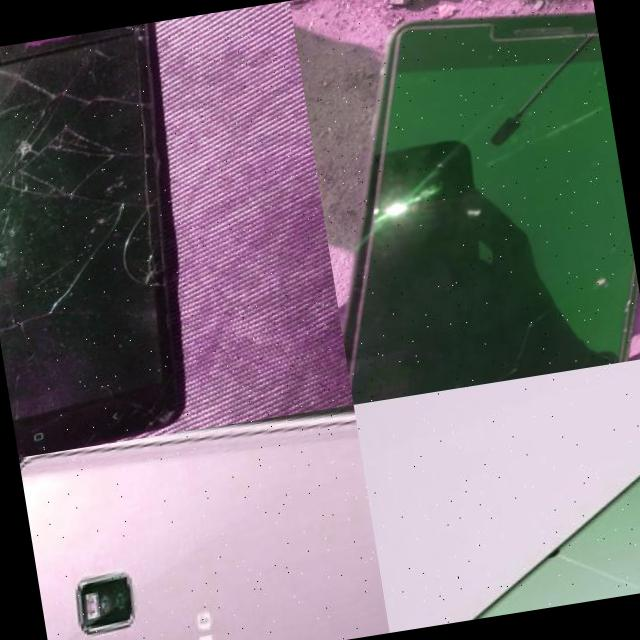dead pixel: (524, 540, 581, 576)
screen crack: (0, 23, 215, 458), (350, 27, 626, 246), (603, 239, 640, 355)
